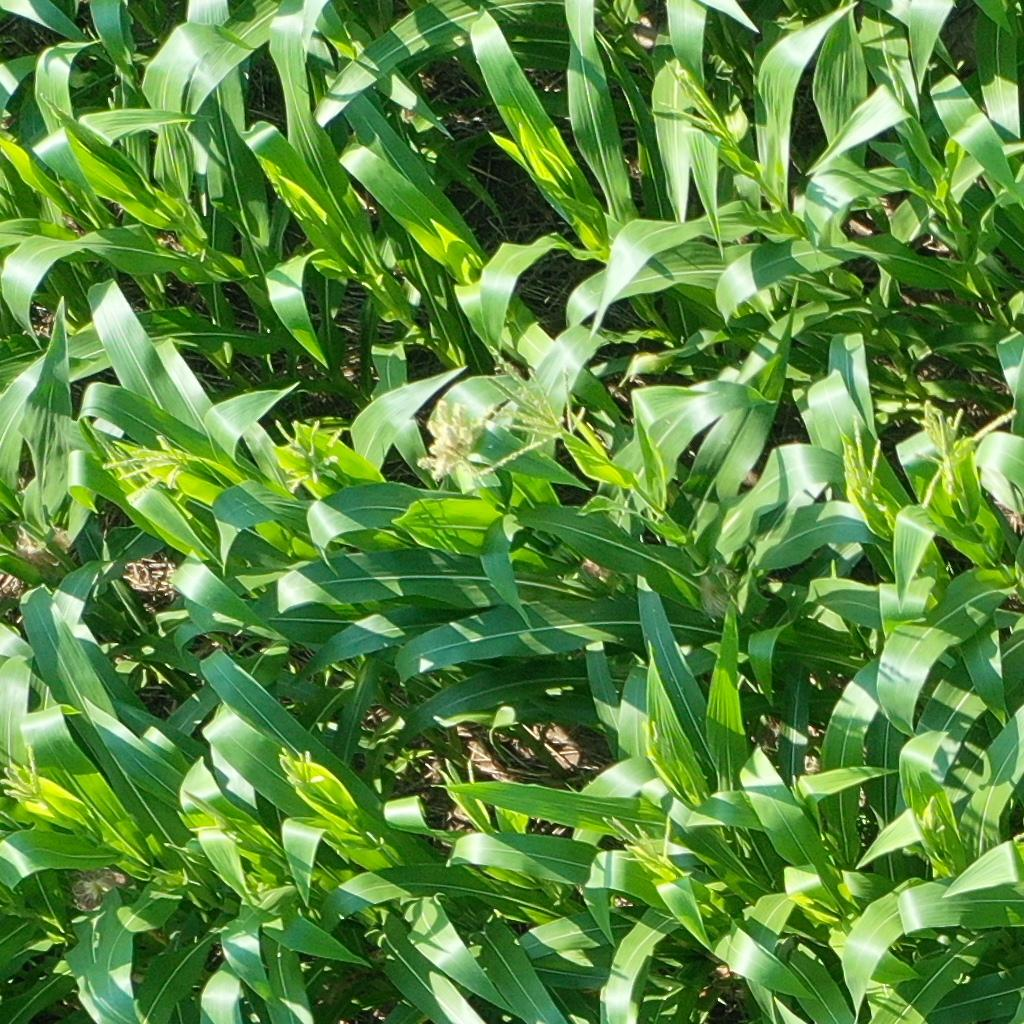Tassel: (473, 356, 597, 481), (905, 393, 1019, 511), (95, 433, 193, 508), (407, 392, 484, 487), (652, 56, 725, 143), (267, 418, 346, 491), (835, 415, 884, 506), (610, 812, 678, 872), (180, 789, 245, 847), (1, 744, 47, 807), (635, 712, 679, 776), (277, 745, 327, 792), (910, 794, 949, 844)
